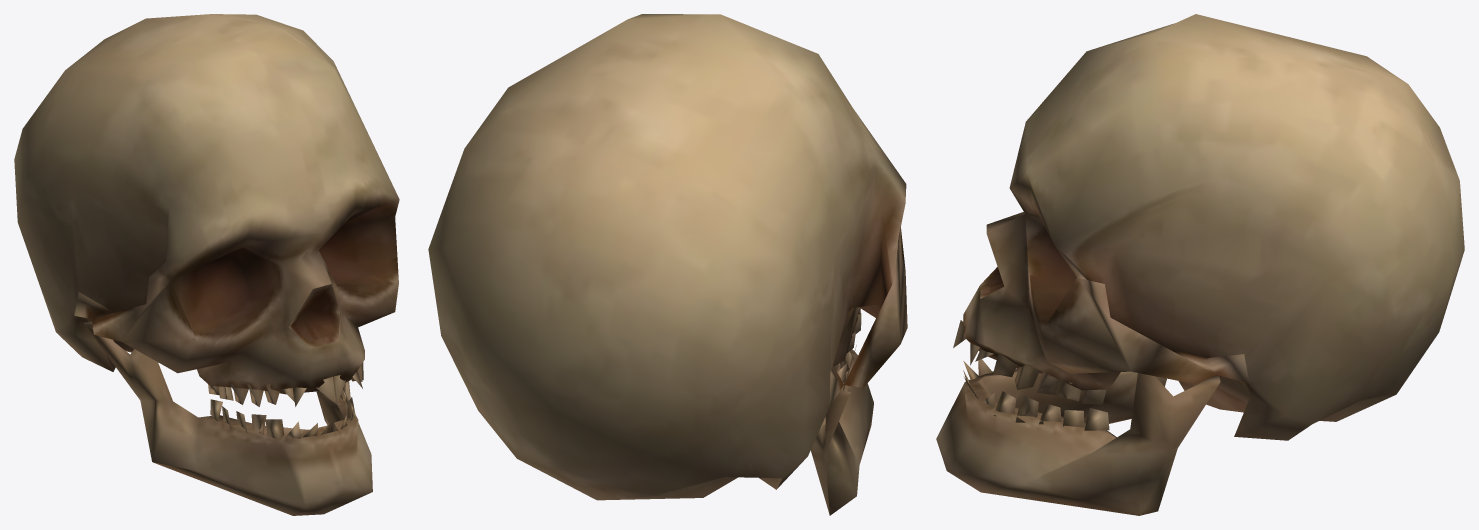
Rendered from Skull.glb.
3 views of the same model, side by side, from view 1: azimuth 30°, elevation 25°; view 2: azimuth 150°, elevation 25°; view 3: azimuth 270°, elevation 25° (orthographic). The views are drawn at different scales.
Visible parts, largest first — view 1: Obj3d66-18427345-1-165; view 2: Obj3d66-18427345-1-165; view 3: Obj3d66-18427345-1-165.
Boxes of the visible parts, x1,y1,x2,y2 form: Obj3d66-18427345-1-165: (14, 14, 399, 515); Obj3d66-18427345-1-165: (428, 14, 907, 515); Obj3d66-18427345-1-165: (936, 14, 1464, 515).
Bounding box in the file's own units: 0.6217 × 0.7892 × 0.8726.
1 material, 1 textured.
